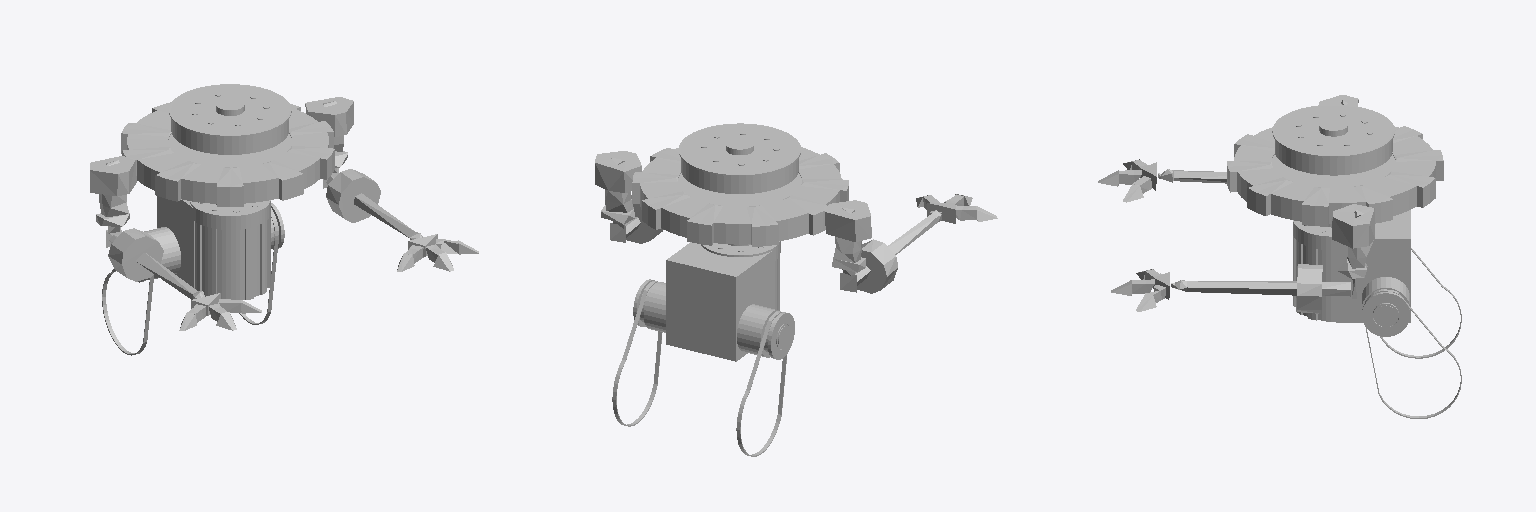
File: RobotRece_000022.obj
3 renders of one model, left to right at view 1: azimuth 30°, elevation 25°; view 2: azimuth 150°, elevation 25°; view 3: azimuth 270°, elevation 25°, orthographic.
Visible parts, largest first — view 1: Cylinder.007, Cube_Cube.003; view 2: Cylinder.007, Cube_Cube.003; view 3: Cylinder.007, Cube_Cube.003.
Part boxes in pixels (bbox=[...]): Cylinder.007: bbox=[102, 84, 334, 355]; Cube_Cube.003: bbox=[90, 97, 478, 330]; Cylinder.007: bbox=[612, 123, 848, 456]; Cube_Cube.003: bbox=[595, 151, 997, 293]; Cylinder.007: bbox=[1227, 105, 1461, 418]; Cube_Cube.003: bbox=[1098, 95, 1374, 313].
Bounding box in the file's own units: 4.59 × 3.78 × 4.73.